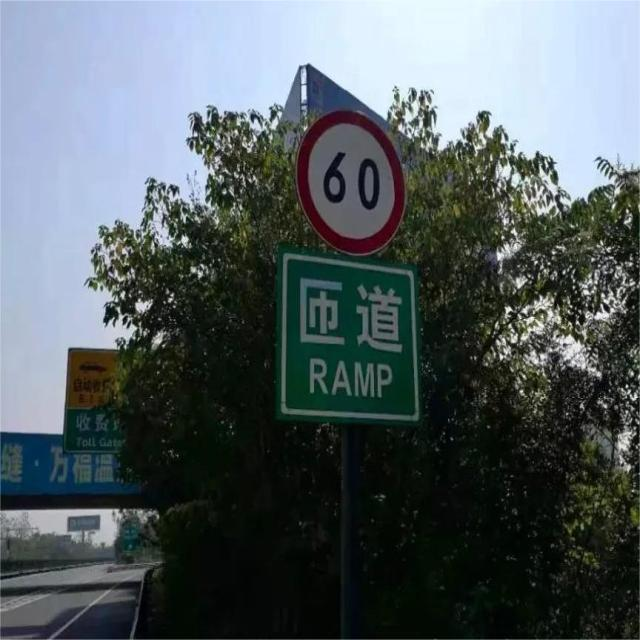speed limit 60: (295, 109, 407, 255)
